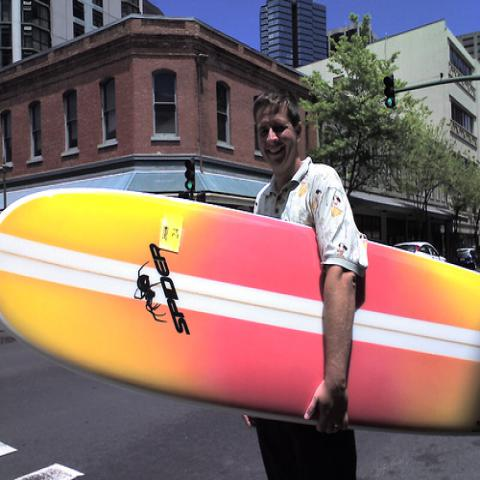car: (393, 242, 447, 262), (453, 247, 479, 270)
